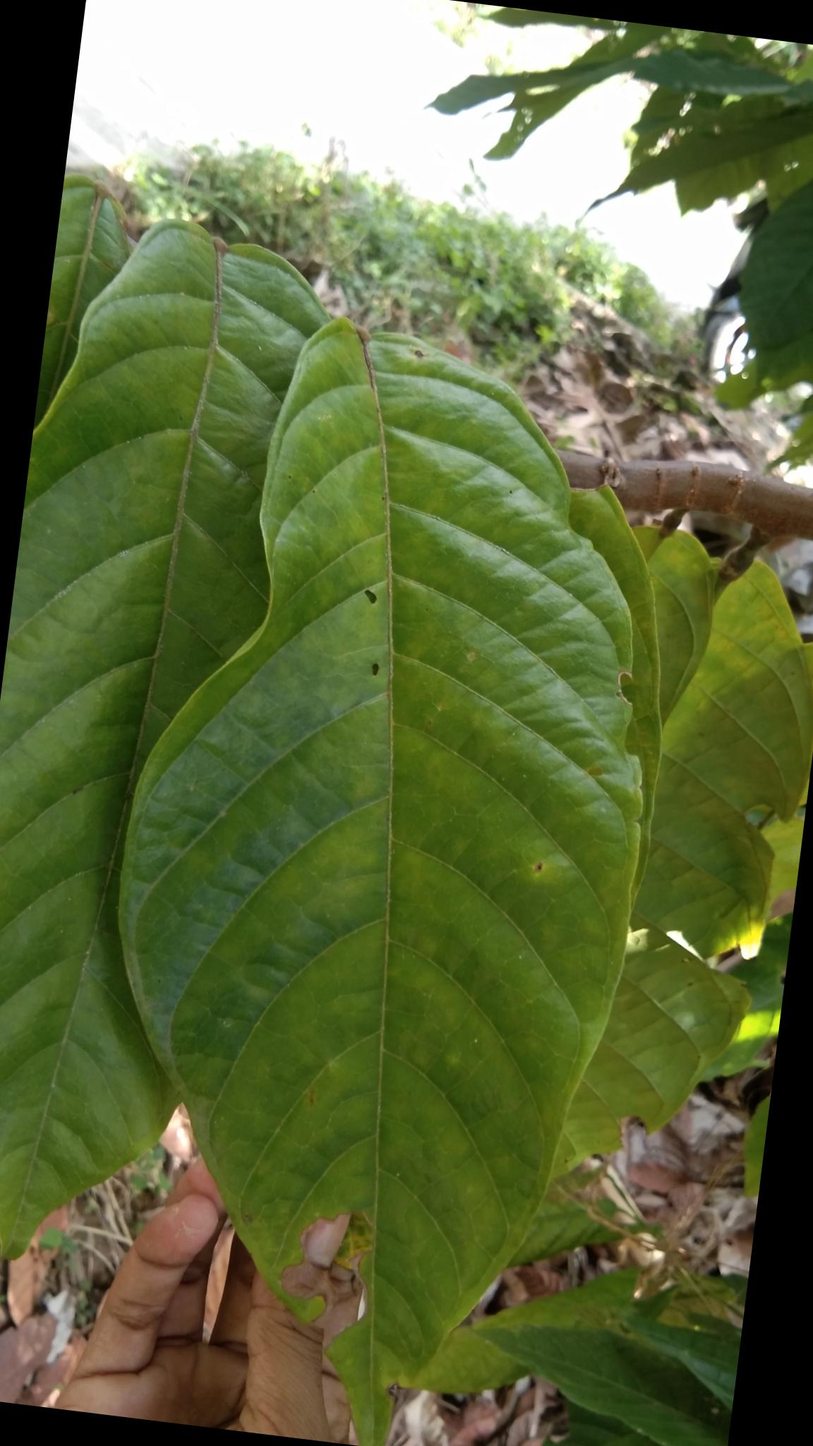Fosforo: (77, 289, 672, 1446)
